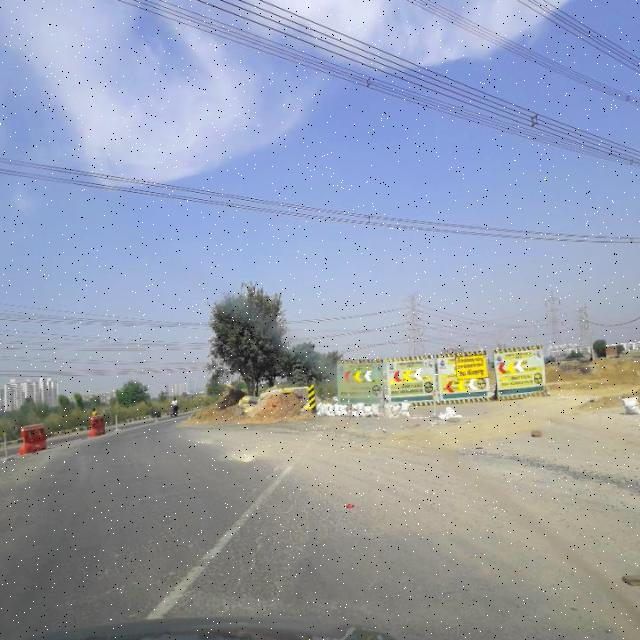D20: (135, 476, 322, 610)
